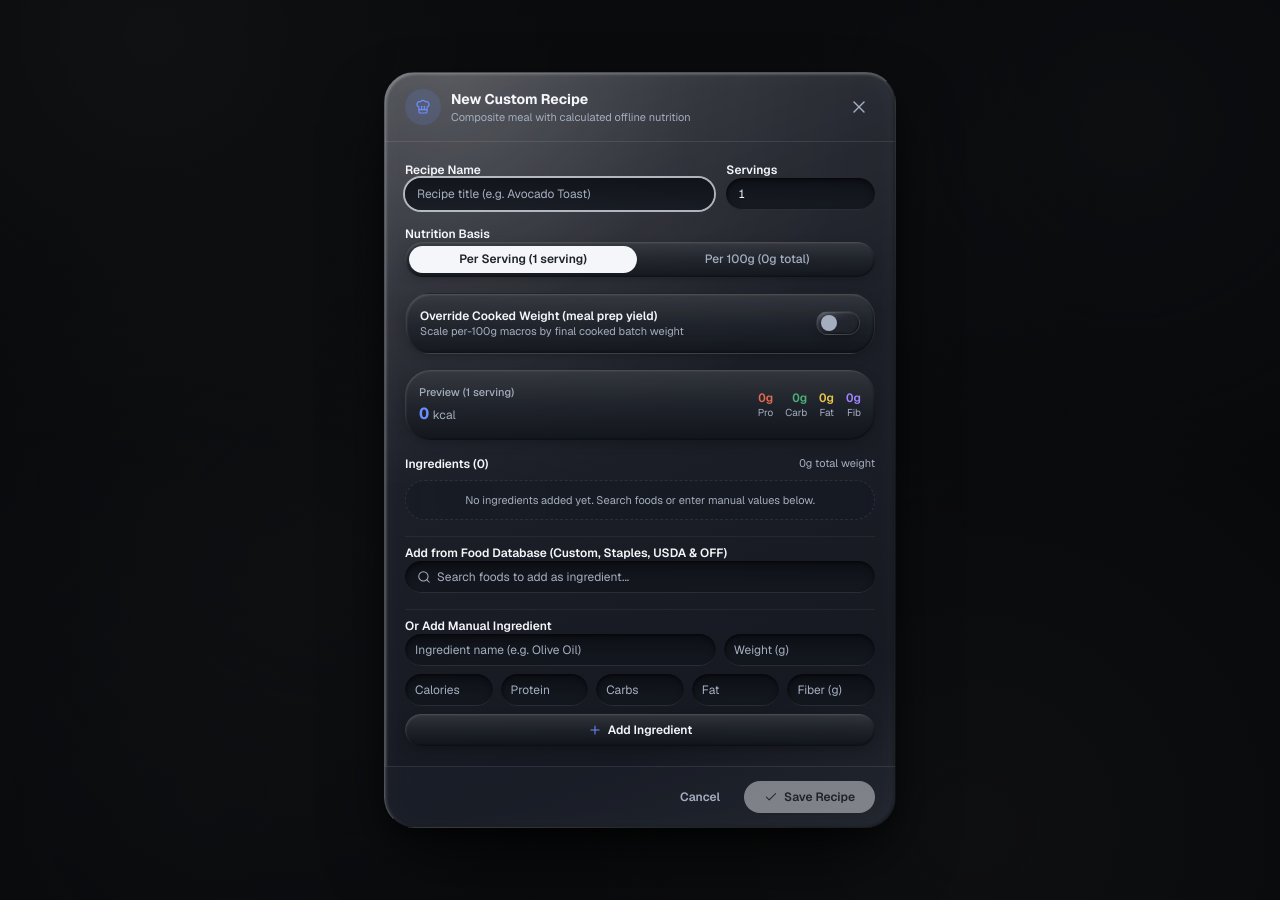
it: Recipe Builder, Date Copy & Unified Log Views › UI Component: RecipeBuilderModal & RecipesPage › regression: editing ingredient amount in RecipeBuilderModal through 100 -> 1 -> "" -> 200 yields exact 2x calories without rounding drift
Type "Rolled Oats" into the field with placeholder "Ingredient name (e.g. Olive Oil)" at (560, 650), box [405,634,716,666]
Type "100" into the number field with placeholder "Weight (g)" at (799, 650), box [724,634,875,666]
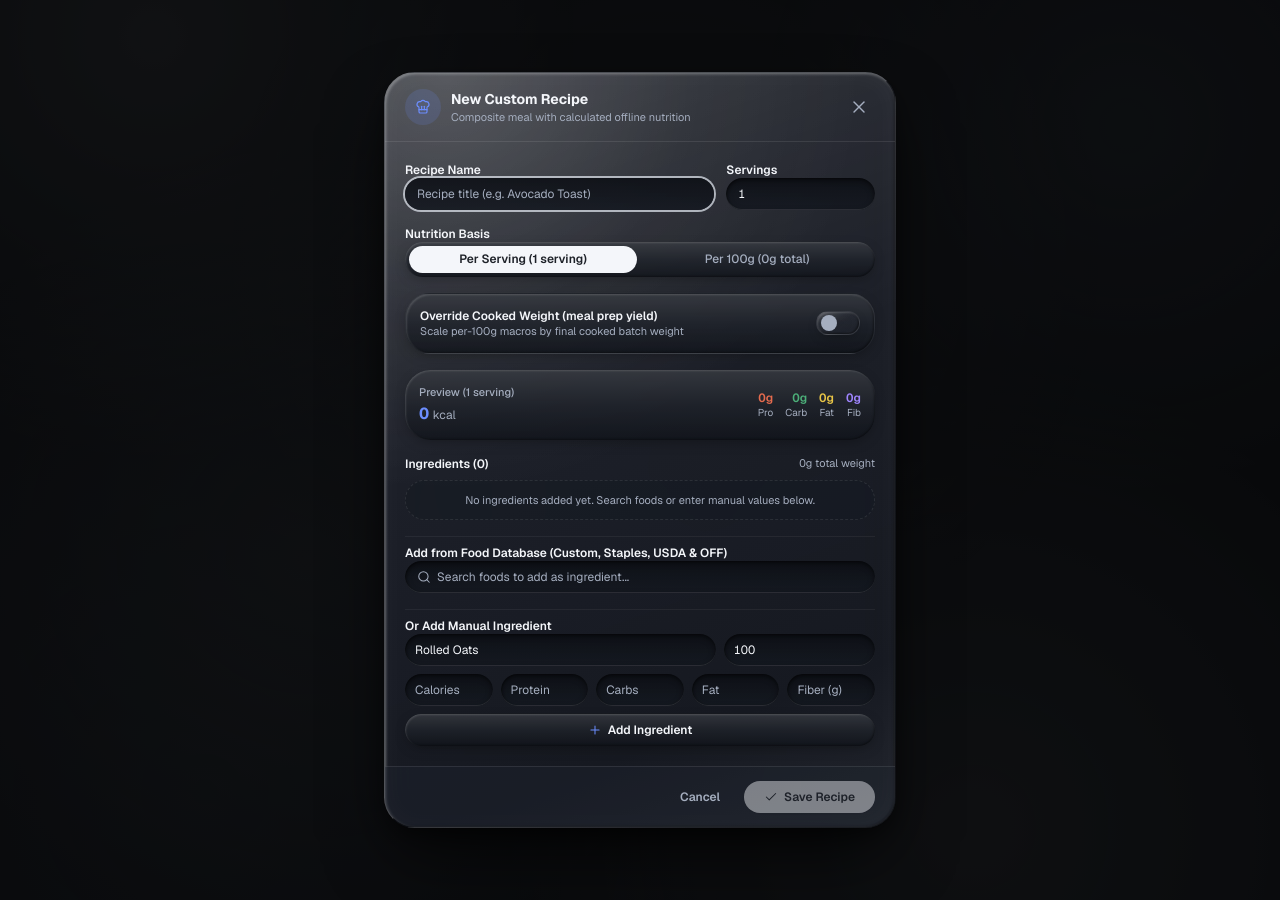
Type "389" into the number field with placeholder "Calories" at (449, 690), box [405,674,493,706]
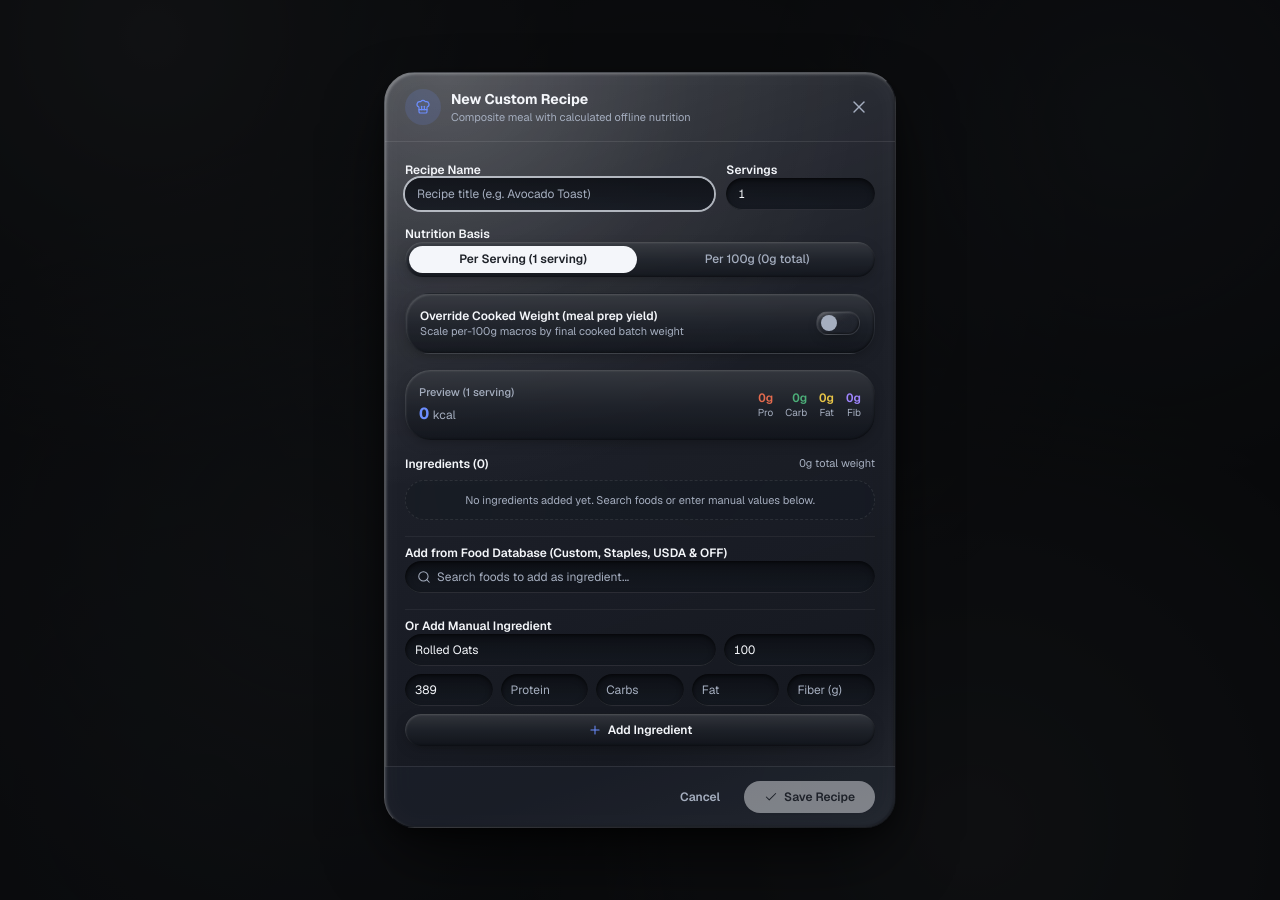
Type "16.9" into the number field with placeholder "Protein" at (544, 690), box [501,674,588,706]
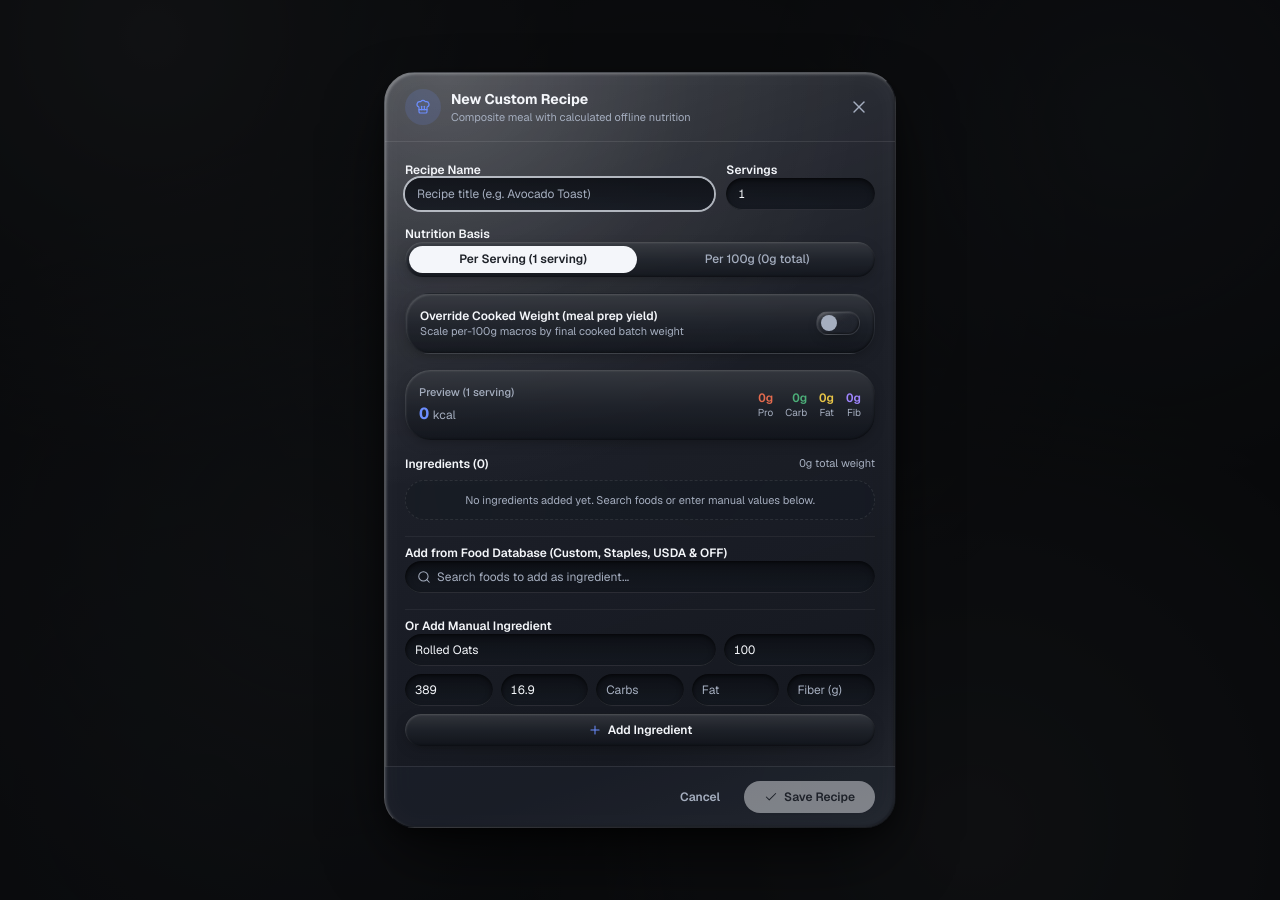
Click the button "Add Ingredient" at (640, 730), box [405,714,875,746]
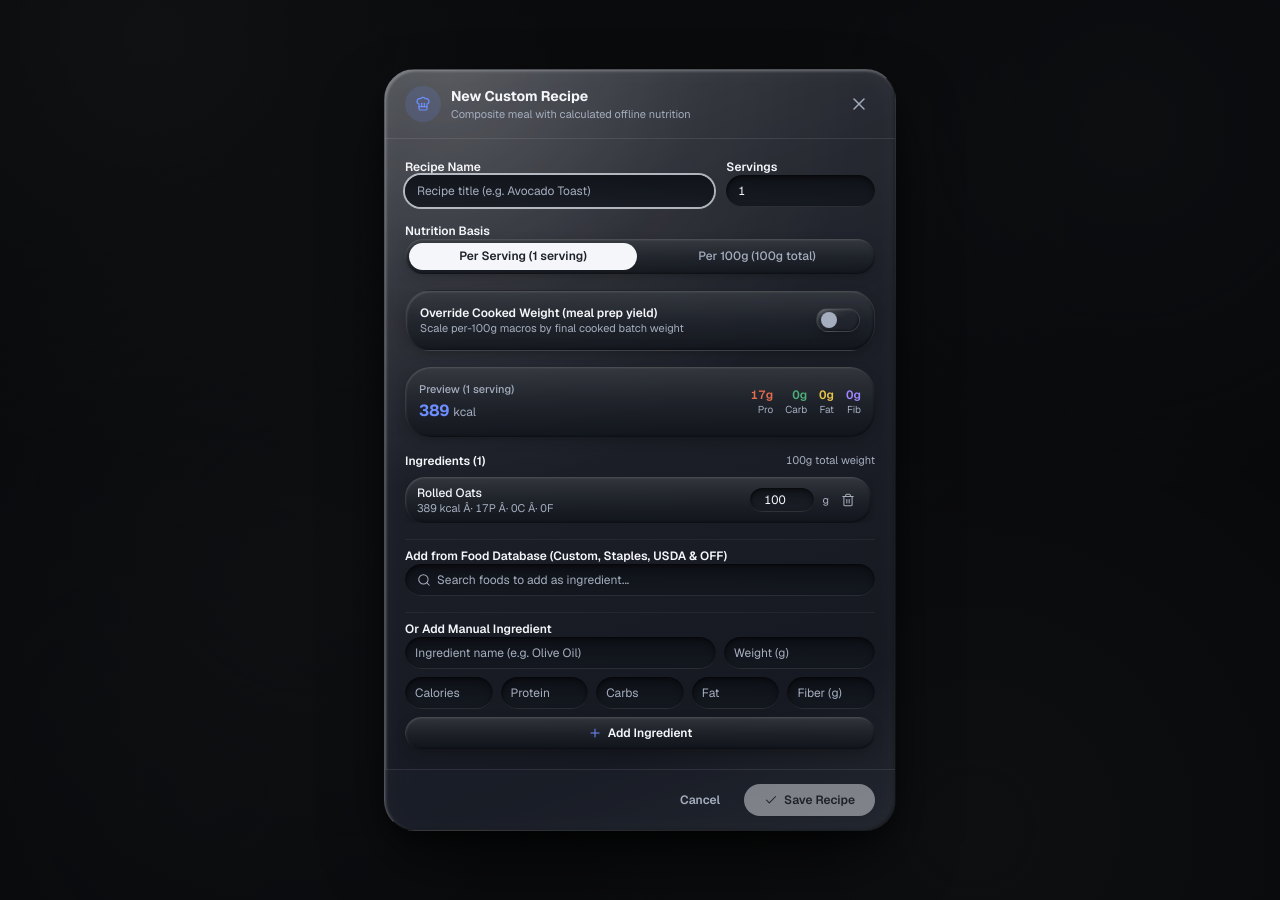
Check: the text "Rolled Oats" is shown, box [417,485,482,501]
Check: the text "389 kcal Â· 17P Â· 0C Â· 0F" is shown, box [417,501,553,515]
Replace the text in the number field showing "100" with "1" at (782, 500), box [750,488,814,512]
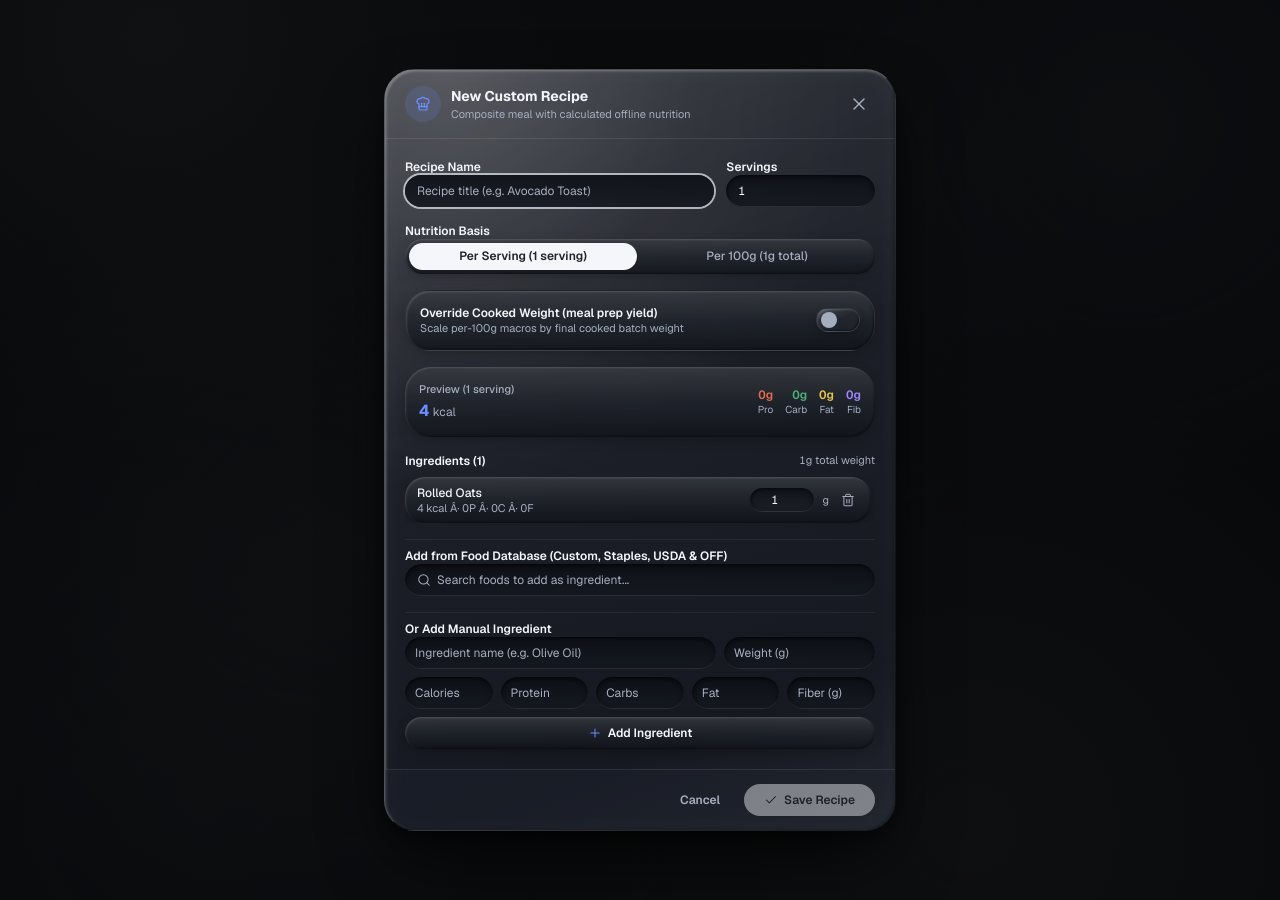
Check: the text "4 kcal Â· 0P Â· 0C Â· 0F" is shown, box [417,501,534,515]
Replace the text in the number field showing "100" with "200" at (782, 500), box [750,488,814,512]
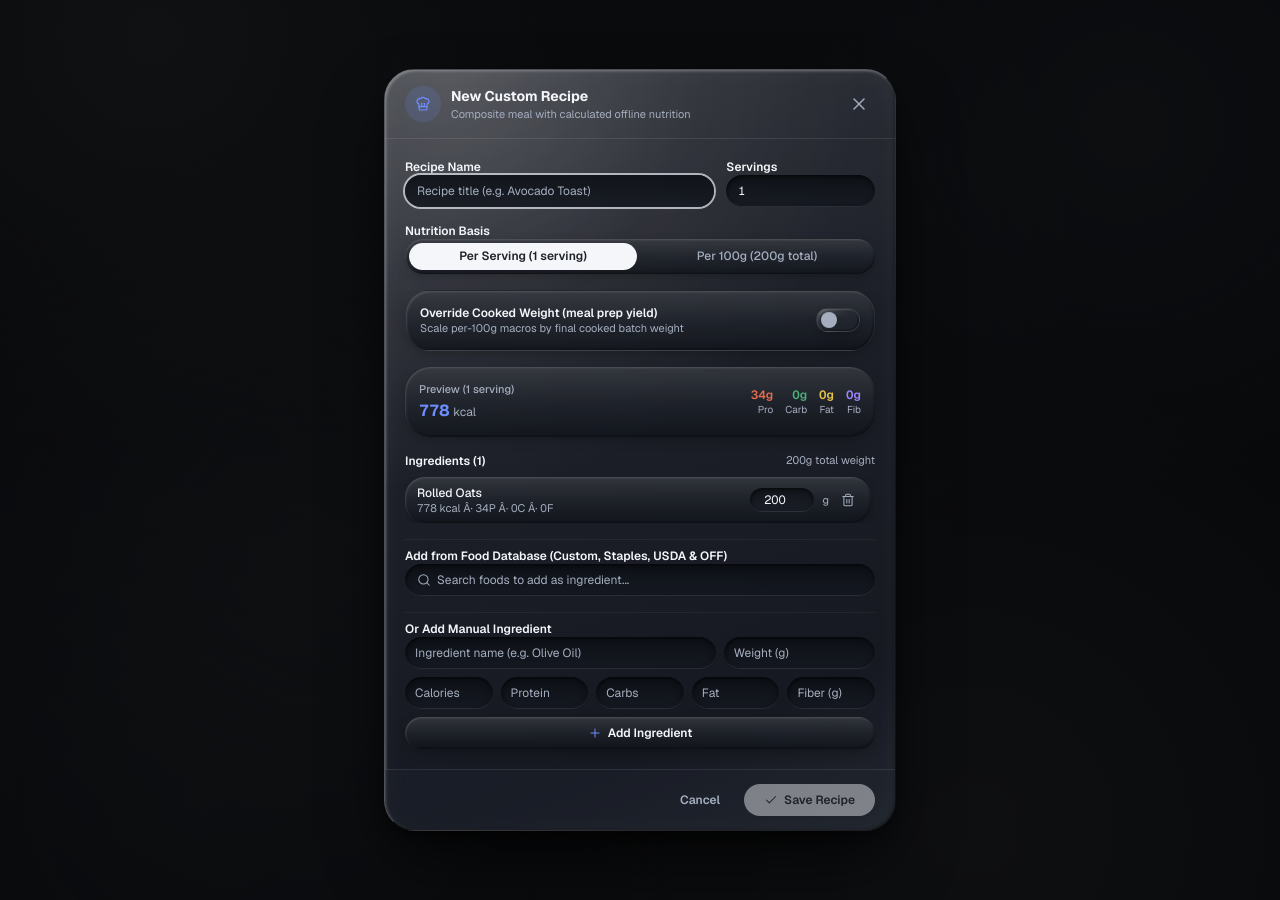
Check: the text "778 kcal Â· 34P Â· 0C Â· 0F" is shown, box [417,501,553,515]
